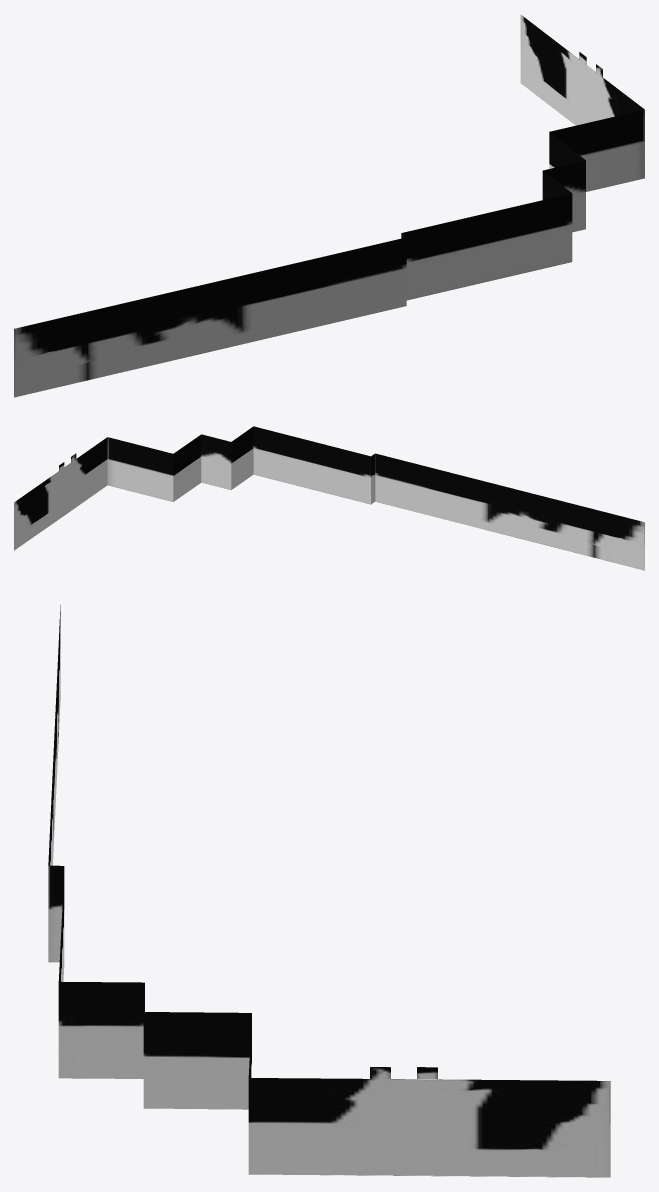
3 renders of one model, top to bottom at view 1: azimuth 30°, elevation 25°; view 2: azimuth 150°, elevation 25°; view 3: azimuth 270°, elevation 25°, orthographic. The views are drawn at different scales.
Visible parts, largest first — view 1: ty1; view 2: ty1; view 3: ty1.
Boxes of the visible parts, x1,y1,x2,y2 form: ty1: (14,14,644,397); ty1: (14,426,644,570); ty1: (48,605,610,1177).
Bounding box in the file's own units: 5214 × 548 × 2573.
